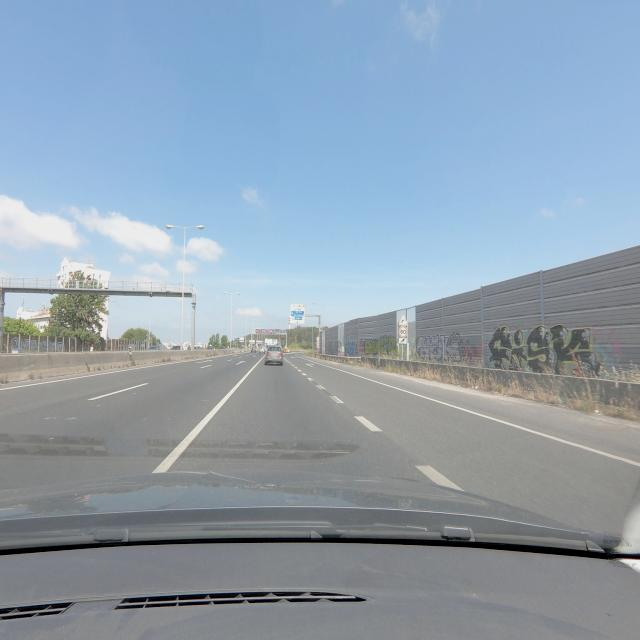car: (264, 344, 284, 366), (182, 342, 193, 351), (170, 343, 182, 350), (148, 344, 160, 350)
